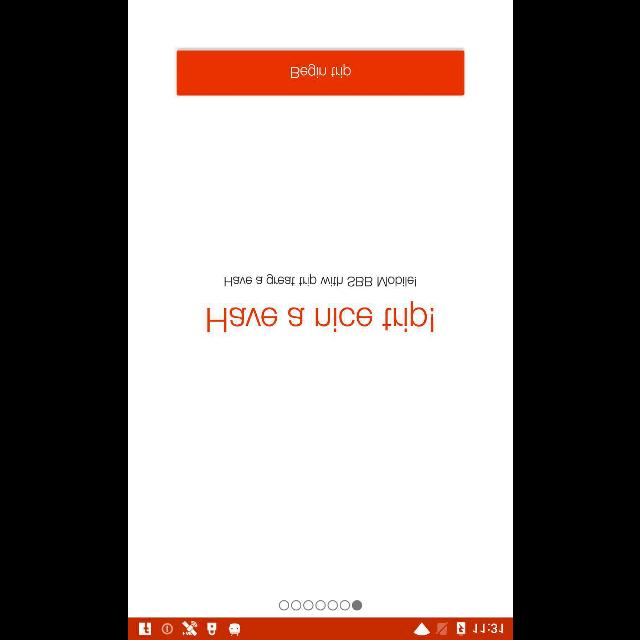pageindicator: (278, 600, 362, 610)
text: (207, 302, 433, 332), (224, 274, 416, 286)
textbutton: (176, 50, 464, 96)
uppertaskbar: (128, 617, 512, 639)
